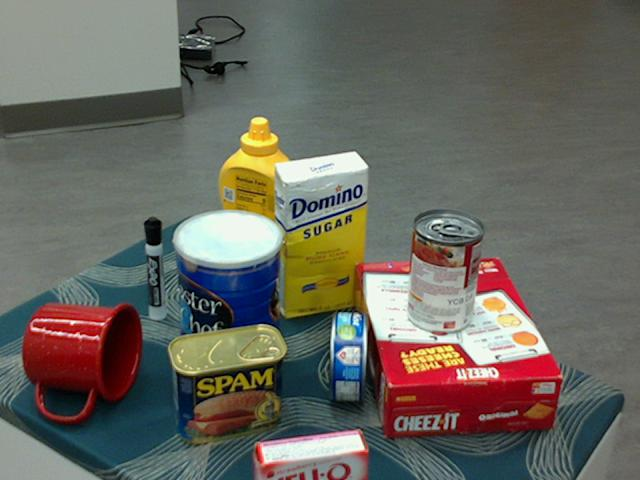cracker_box: (351, 259, 562, 434)
gelatin_box: (251, 429, 365, 479)
large_marker: (143, 216, 163, 319)
master_chef_can: (174, 210, 282, 384)
mug: (22, 302, 142, 420)
mustard_bottle: (217, 117, 299, 286)
potted_meat_can: (167, 324, 286, 443)
sugar_box: (273, 153, 368, 319)
tomato_soup_can: (404, 211, 483, 335)
tuna_fish_can: (330, 312, 367, 402)
